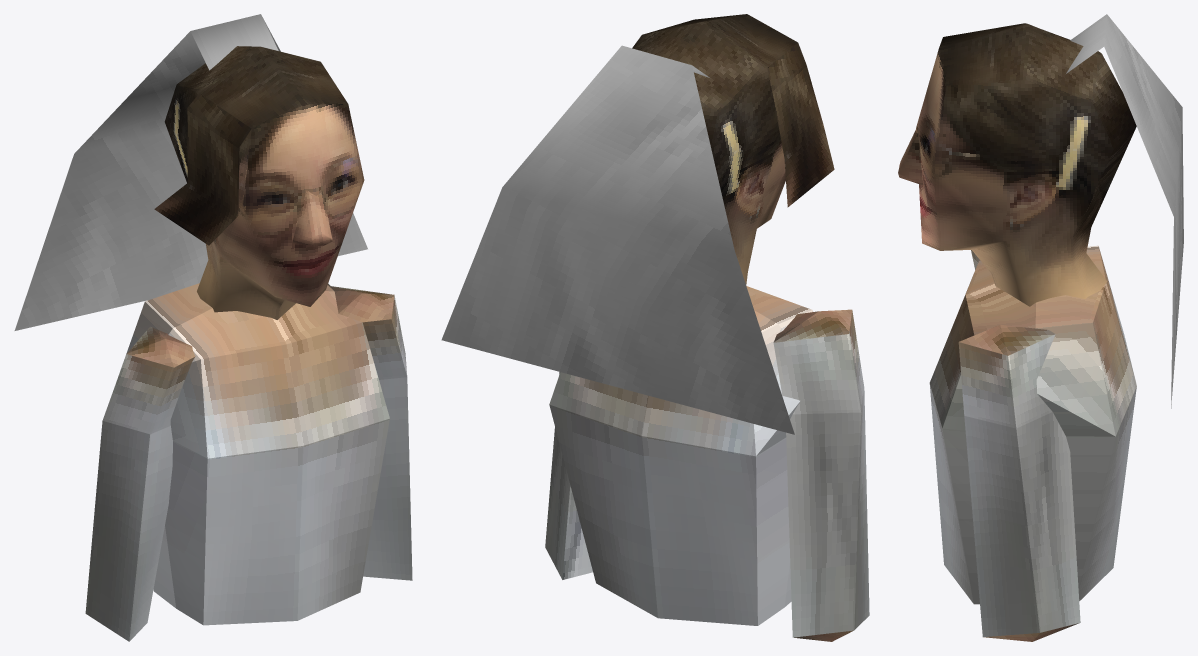
File: Ira(bride.glb
3 views of the same model, side by side, from view 1: azimuth 30°, elevation 25°; view 2: azimuth 150°, elevation 25°; view 3: azimuth 270°, elevation 25° (orthographic). The views are drawn at different scales.
Parts seen in each view (by area): view 1: Head; view 2: Head; view 3: Head.
Boxes of the visible parts, x1,y1,x2,y2 form: Head: [14, 14, 412, 641]; Head: [441, 14, 869, 641]; Head: [898, 14, 1183, 641].
Size of the model in its own units: 0.1306 by 0.2009 by 0.0929.
3 materials, 3 textured.
